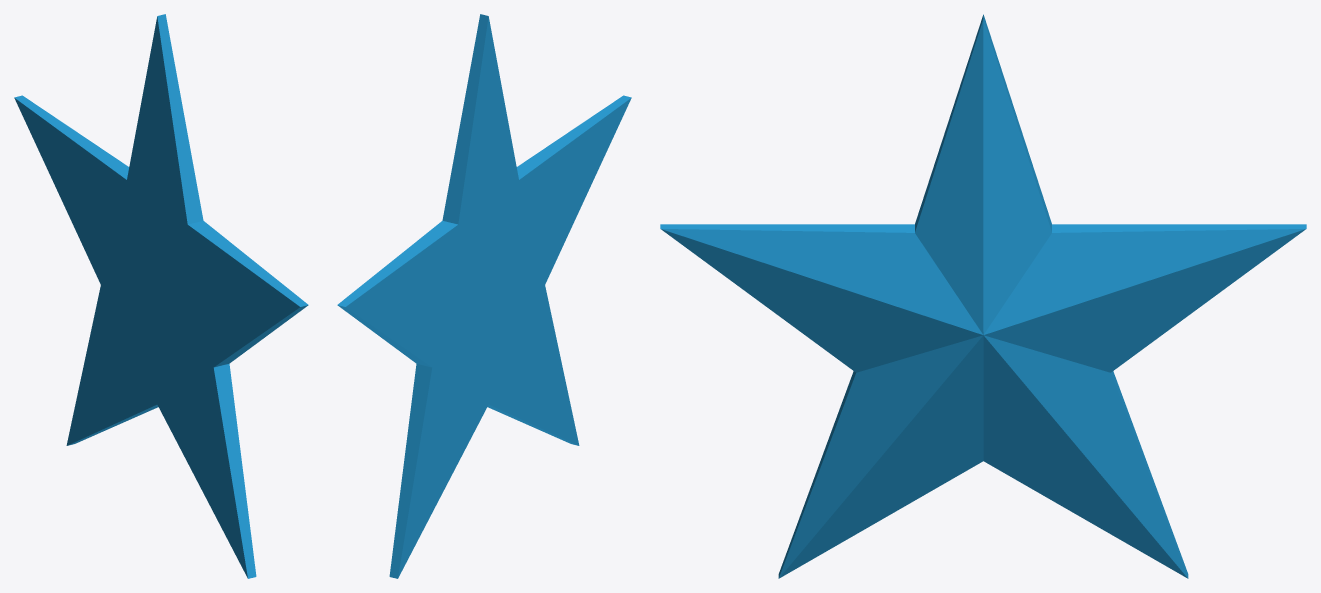
Rendered from Blue Star.glb.
The picture shows the model from 3 angles, left to right: view 1: azimuth 30°, elevation 25°; view 2: azimuth 150°, elevation 25°; view 3: azimuth 270°, elevation 25°; orthographic projection. The views are drawn at different scales.
Parts seen in each view (by area): view 1: Star.005; view 2: Star.005; view 3: Star.005.
Part boxes in pixels (x1,y1,x2,y2): Star.005: [14, 14, 308, 578]; Star.005: [337, 14, 631, 578]; Star.005: [660, 14, 1306, 578].
Bounding box in the file's own units: 0.3469 × 3.86 × 4.03.
Materials: 1 (1 with a texture image).
